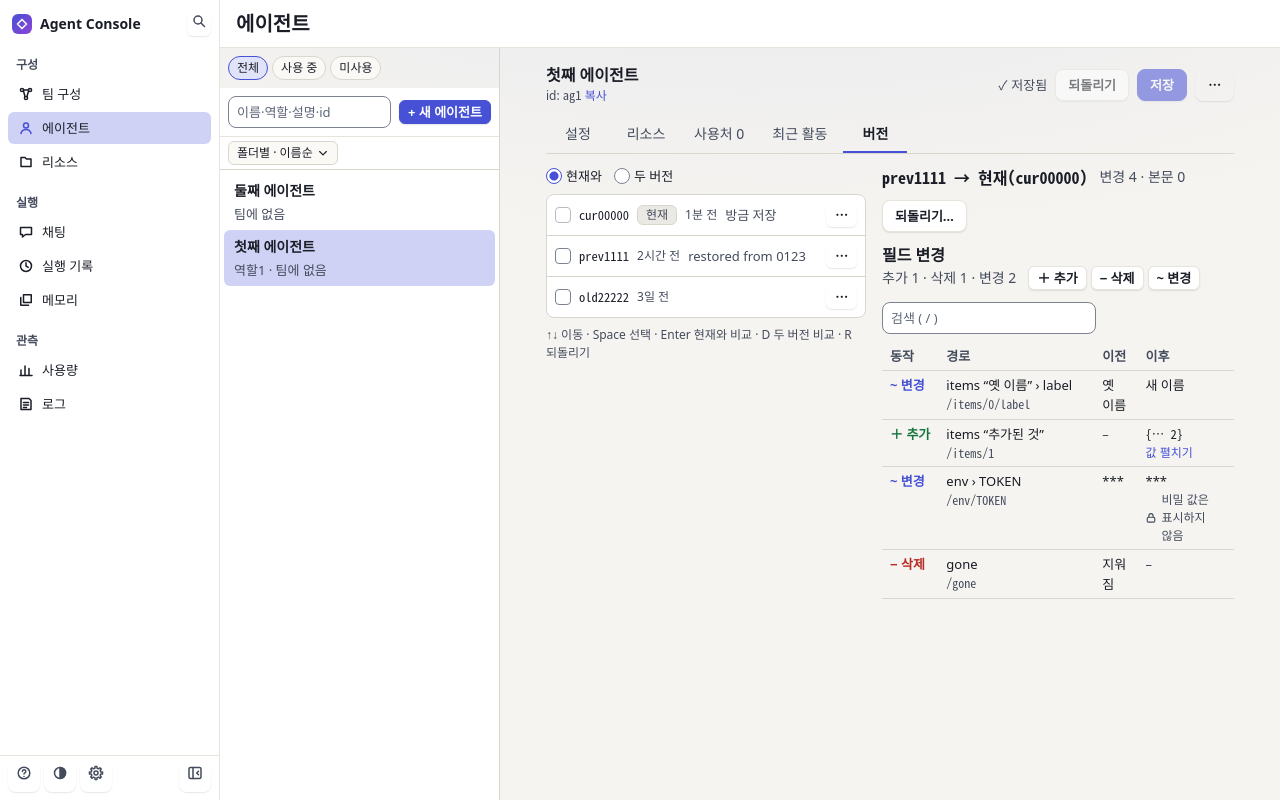
Scenario: 버전 탭: 목록과 비교 › 경로를 원문 포인터와 함께 읽는 경로(배열 원소 이름)로 보이고, 값 펼치기가 객체 JSON을 보인다
This screenshot has width=1280, height=800.
Check: the list named "버전 목록" is shown, box [546,194,866,318]
Check: the text "items “옛 이름” › label" is shown, box [946,376,1072,394]
Step 1. Click the button "값 펼치기" → coordinates (1169, 453), box [1146,444,1193,462]
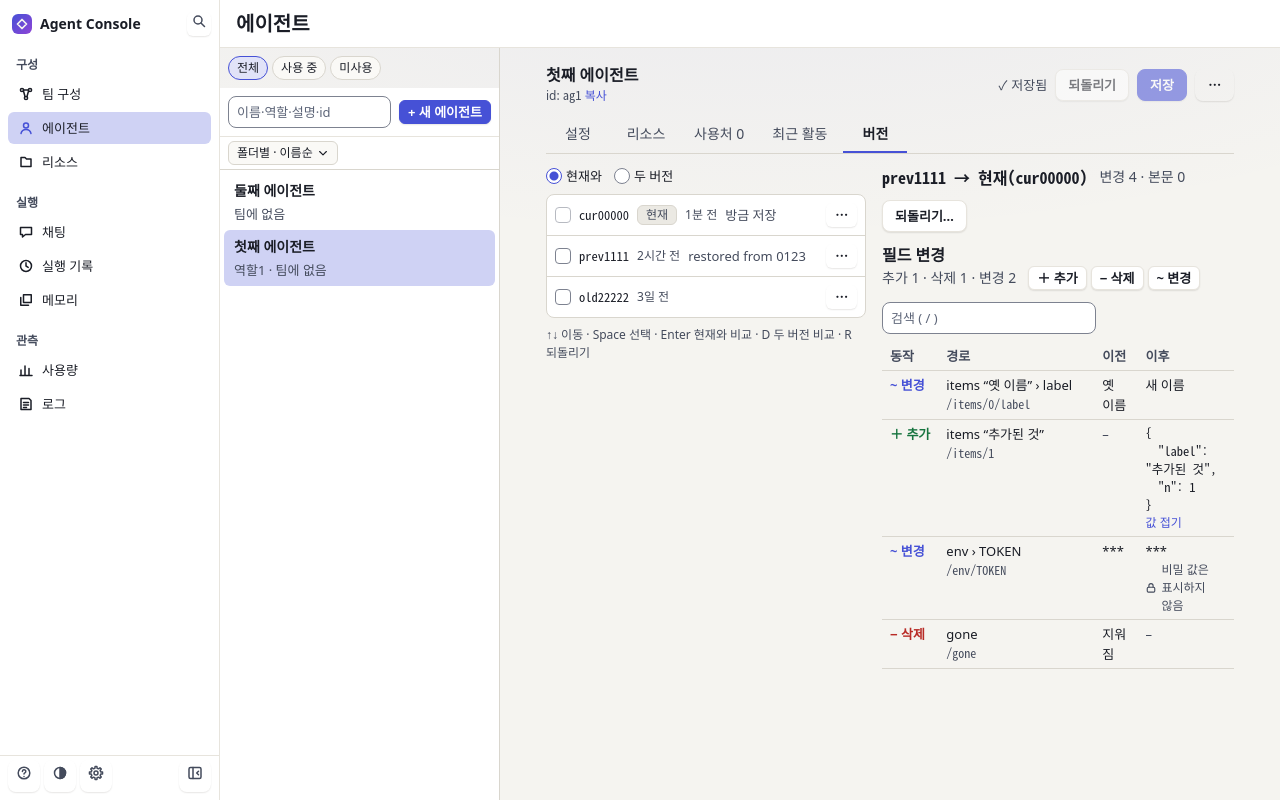
Check: the text "{ \"label\": \"추가된 것\", \"n\": 1 }" is shown, box [1146,424,1226,514]
